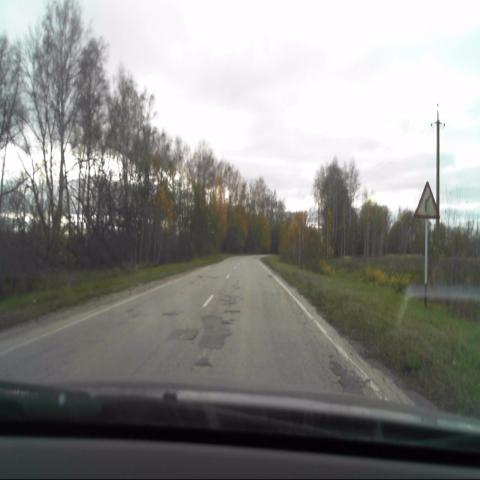1_11: (410, 180, 439, 221)
